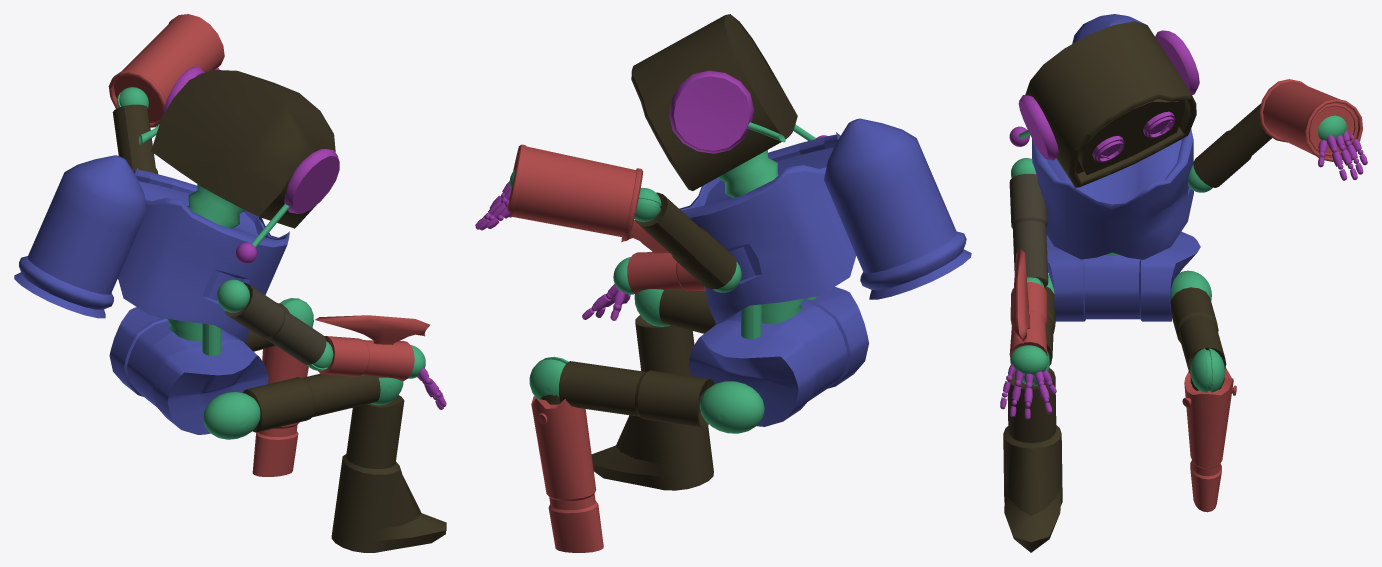
Rendered from R-BRT S4MDies.fbx.
3 views of the same model, side by side, from view 1: azimuth 30°, elevation 25°; view 2: azimuth 150°, elevation 25°; view 3: azimuth 270°, elevation 25° (orthographic). The views are drawn at different scales.
Visible parts, largest first — view 1: Head, Chest, JetPack, Hips2, LeftLeg4, Can, RightArm5 (×2), RightArm8, LeftLeg5, PegLeg, EarR1, LeftLeg6 (+6 smaller); view 2: Chest, JetPack, Hips2, Head, LeftLeg4, Can, PegLeg, RighLeg2, EarR, RightArm5, RightArm8, RightHip (+7 smaller); view 3: Head, Chest, Hips2, LeftLeg4, RightArm5 (×2), Can, PegLeg, RighLeg2, RightArm8, LeftHand (×2), EarR1, EarR (+6 smaller).
Part boxes in pixels (bbox=[...]): Head: bbox=[151, 69, 335, 228]; Chest: bbox=[117, 168, 289, 342]; JetPack: bbox=[14, 155, 147, 318]; Hips2: bbox=[109, 307, 268, 434]; LeftLeg4: bbox=[331, 395, 446, 552]; Can: bbox=[108, 14, 224, 127]; RightArm5 (×2): bbox=[112, 104, 326, 364]; RightArm8: bbox=[315, 315, 430, 380]; LeftLeg5: bbox=[243, 373, 380, 432]; PegLeg: bbox=[252, 345, 308, 476]; EarR1: bbox=[284, 149, 339, 213]; LeftLeg6: bbox=[203, 392, 260, 439]; Chest: bbox=[679, 132, 856, 324]; JetPack: bbox=[824, 118, 971, 299]; Hips2: bbox=[688, 287, 868, 426]; Head: bbox=[631, 14, 797, 190]; LeftLeg4: bbox=[591, 315, 713, 490]; Can: bbox=[507, 144, 643, 241]; PegLeg: bbox=[531, 396, 603, 552]; RighLeg2: bbox=[559, 361, 714, 427]; EarR: bbox=[669, 70, 753, 153]; RightArm5: bbox=[635, 192, 736, 289]; RightArm8: bbox=[621, 220, 705, 294]; RightHip: bbox=[699, 381, 764, 433]; Head: bbox=[1025, 21, 1196, 187]; Chest: bbox=[1032, 129, 1193, 259]; Hips2: bbox=[1046, 231, 1200, 321]; LeftLeg4: bbox=[1003, 368, 1062, 552]; RightArm5 (×2): bbox=[1009, 103, 1272, 287]; Can: bbox=[1259, 79, 1362, 161]; PegLeg: bbox=[1184, 367, 1233, 512]; RighLeg2: bbox=[1170, 287, 1226, 374]; RightArm8: bbox=[1009, 249, 1047, 357]; LeftHand (×2): bbox=[1010, 115, 1346, 376]; EarR1: bbox=[1018, 95, 1058, 160]; EarR: bbox=[1155, 30, 1199, 94].
Size of the model in its own units: 60.03 by 70.98 by 52.46.
